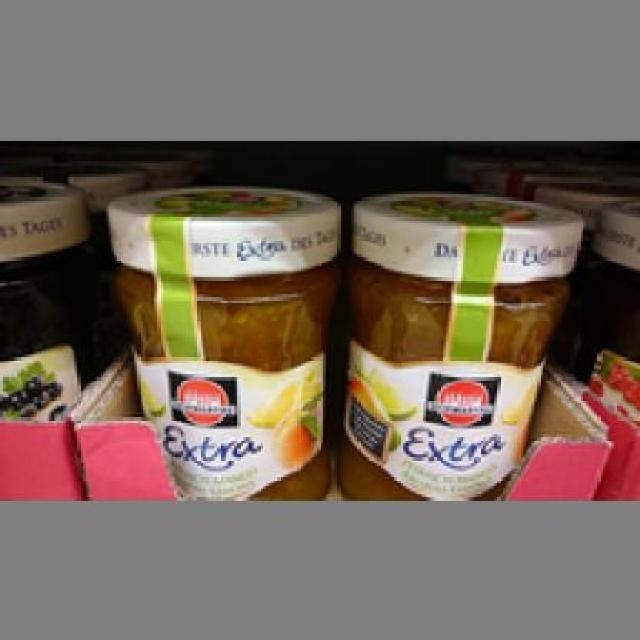Jam: (337, 191, 586, 500), (103, 180, 340, 497)
